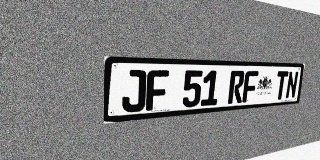1: (201, 70, 220, 106)
5: (182, 70, 203, 108)
F: (146, 70, 169, 111), (242, 71, 259, 103)
J: (122, 70, 146, 113)
N: (285, 71, 299, 99)
R: (228, 71, 245, 104)
T: (274, 71, 289, 100)
